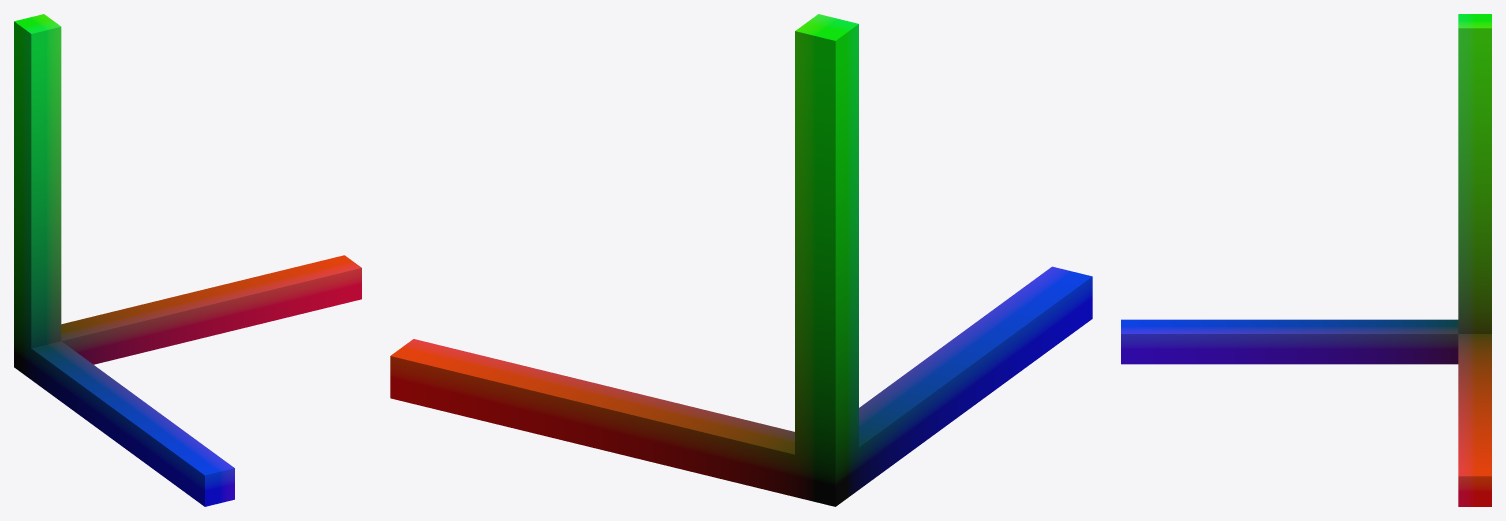
The model's file is debug_axis.obj.
The picture shows the model from 3 angles, left to right: view 1: azimuth 30°, elevation 25°; view 2: azimuth 150°, elevation 25°; view 3: azimuth 270°, elevation 25°; orthographic projection. The views are drawn at different scales.
Visible parts, largest first — view 1: Cube; view 2: Cube; view 3: Cube.
Part boxes in pixels (<box>): Cube: <box>14,14,361,506</box>; Cube: <box>390,14,1092,506</box>; Cube: <box>1121,14,1491,506</box>.
Bounding box in the file's own units: 1.1 × 1.1 × 1.1.
1 material, 1 textured.
